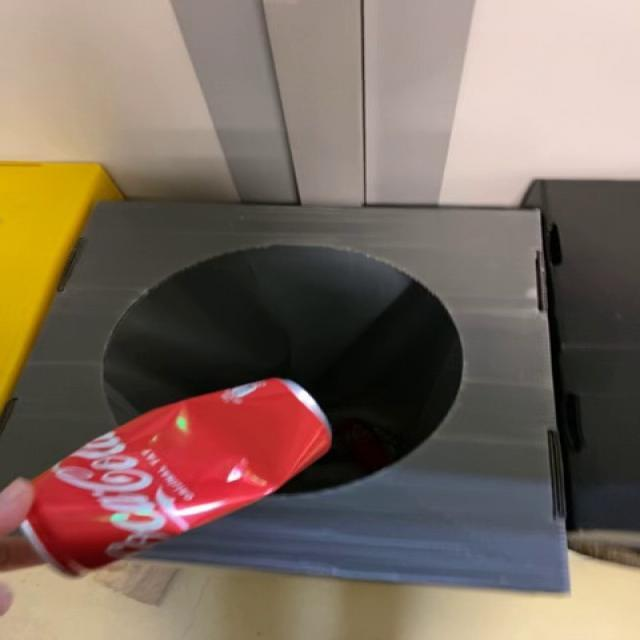Bin: (3, 204, 571, 592)
Metal: (21, 379, 332, 576)
